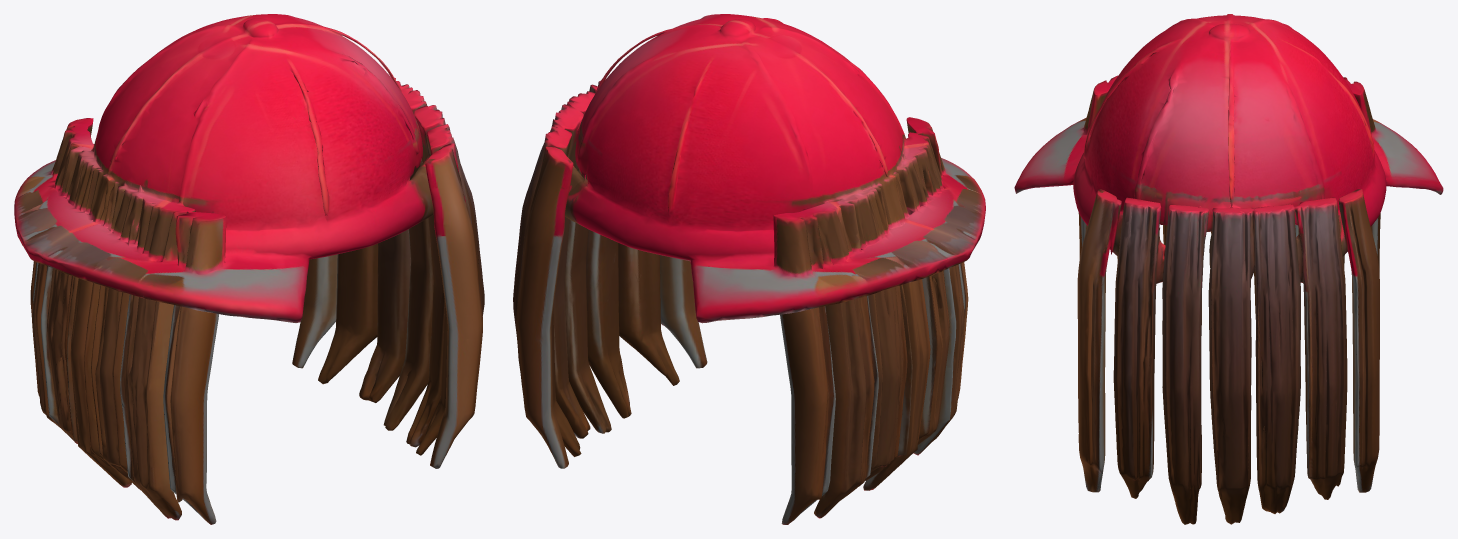
The model's file is kpop-snapback.glb.
The picture shows the model from 3 angles, left to right: view 1: azimuth 30°, elevation 25°; view 2: azimuth 150°, elevation 25°; view 3: azimuth 270°, elevation 25°; orthographic projection.
Parts seen in each view (by area): view 1: tripo_node_bad020bb-1509-4a62-a117-353cf60937db; view 2: tripo_node_bad020bb-1509-4a62-a117-353cf60937db; view 3: tripo_node_bad020bb-1509-4a62-a117-353cf60937db.
Boxes of the visible parts, x1,y1,x2,y2 form: tripo_node_bad020bb-1509-4a62-a117-353cf60937db: [14, 14, 484, 524]; tripo_node_bad020bb-1509-4a62-a117-353cf60937db: [513, 14, 985, 524]; tripo_node_bad020bb-1509-4a62-a117-353cf60937db: [1014, 14, 1443, 524].
Size of the model in its own units: 1.55 by 1.54 by 1.37.
Materials: 1 (1 with a texture image).
